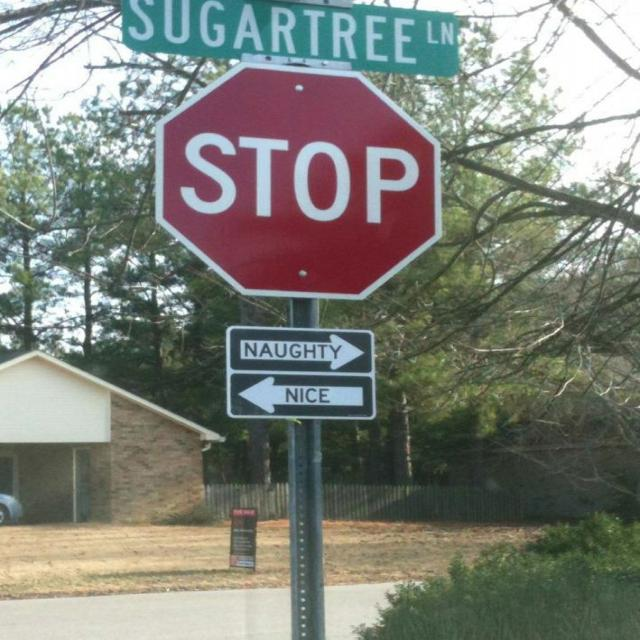stop: (153, 59, 443, 301)
